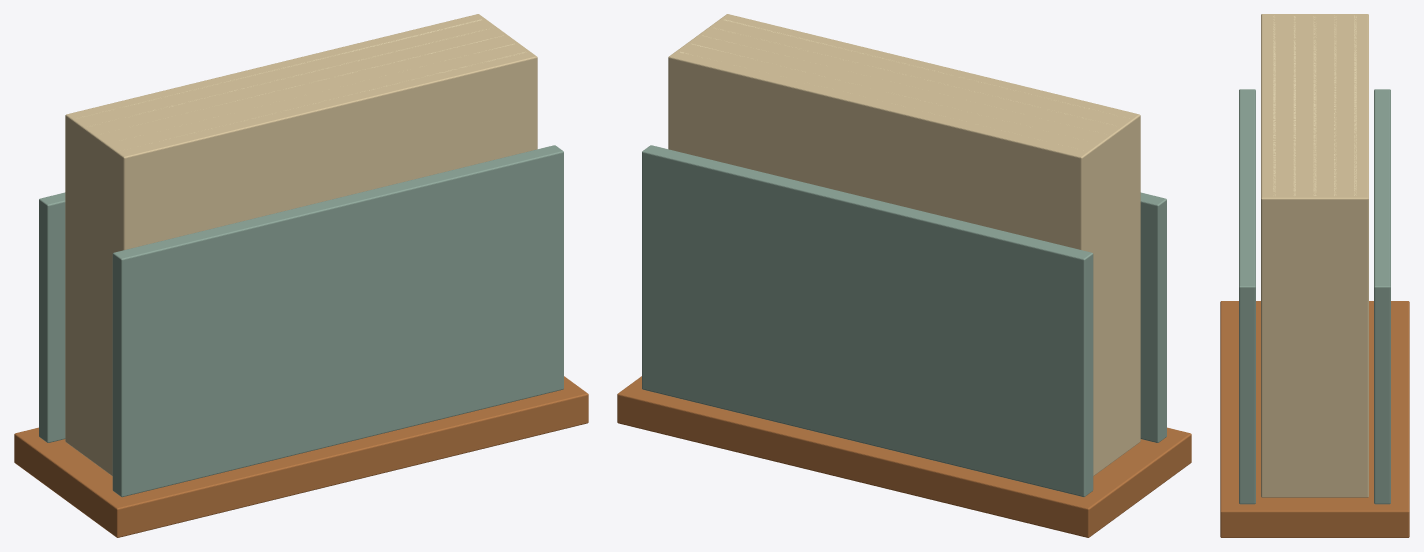
Rendered from napkins.glb.
3 renders of one model, left to right at view 1: azimuth 30°, elevation 25°; view 2: azimuth 150°, elevation 25°; view 3: azimuth 270°, elevation 25°, orthographic. The views are drawn at different scales.
Parts seen in each view (by area): view 1: napkins; view 2: napkins; view 3: napkins.
Part boxes in pixels (<box>): napkins: <box>14,14,588,537</box>; napkins: <box>617,14,1191,537</box>; napkins: <box>1220,14,1409,537</box>.
Size of the model in its own units: 0.145 by 0.105 by 0.055.
